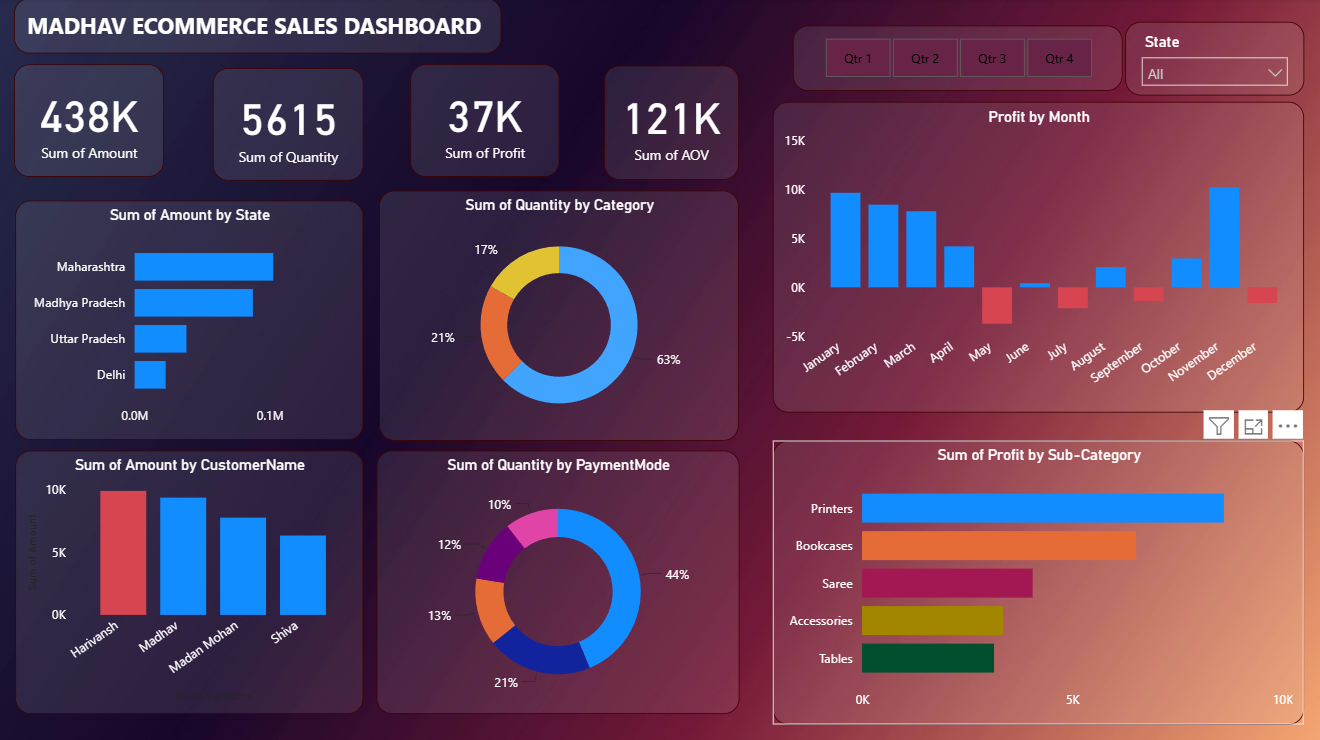

What the dashboard file says about the page in this screenshot:
{"tool":"powerbi","page":{"name":"Page 1","canvas":[1280,720],"ordinal":0},"visuals":[{"type":"textbox","box":[15,0,470,53.8],"z":0},{"type":"columnChart","title":"Profit by Month","fields":{"Category":["Orders.Order Date.Variation.Date Hierarchy.Month"],"Y":["Sum(Details.Profit)"]},"box":[747.1,100,512.9,300],"z":1000},{"type":"barChart","fields":{"Category":["Details.Sub-Category"],"Y":["Sum(Details.Profit)"]},"box":[747.1,427.1,512.9,274.3],"z":2000},{"type":"donutChart","fields":{"Category":["Details.Category"],"Y":["Sum(Details.Quantity)"]},"box":[367.1,185.7,347.1,241.4],"z":3000},{"type":"donutChart","fields":{"Y":["Sum(Details.Quantity)"],"Category":["Details.PaymentMode"]},"box":[364.3,437.1,350,254.3],"z":4000},{"type":"card","fields":{"Values":["Sum(Details.Amount)"]},"box":[15,63.8,145,108.8],"z":5000},{"type":"card","fields":{"Values":["Sum(Details.Quantity)"]},"box":[205.7,67.1,145.7,108.6],"z":6000},{"type":"card","fields":{"Values":["Sum(Details.Profit)"]},"box":[397.1,64.3,144.3,108.6],"z":7000},{"type":"card","fields":{"Values":["Sum(Details.AOV)"]},"box":[584.3,65.7,130,110],"z":8000},{"type":"barChart","fields":{"Category":["Orders.State"],"Y":["Sum(Details.Amount)"]},"box":[15.7,195.7,335.7,231.4],"z":9000},{"type":"columnChart","fields":{"Category":["Orders.CustomerName"],"Y":["Sum(Details.Amount)"]},"box":[15.7,437.1,335.7,254.3],"z":10000},{"type":"slicer","fields":{"Values":["Orders.Order Date.Variation.Date Hierarchy.Quarter"]},"box":[765.7,27.1,318.6,62.9],"z":11000},{"type":"slicer","fields":{"Values":["Orders.State"]},"box":[1087.1,22.9,172.9,71.4],"z":12000}]}

Visuals, with their boxes in screenshot pixels (x1, y1, x2, y2), scaled from the page's 1280x720 canvas onto the 1320x740 screenshot:
textbox: {"left": 15, "top": 0, "right": 500, "bottom": 55}
"Profit by Month" columnChart: {"left": 770, "top": 103, "right": 1299, "bottom": 411}
barChart - Details.Sub-Category x Sum(Details.Profit): {"left": 770, "top": 439, "right": 1299, "bottom": 721}
donutChart - Details.Category x Sum(Details.Quantity): {"left": 379, "top": 191, "right": 737, "bottom": 439}
donutChart - Sum(Details.Quantity) x Details.PaymentMode: {"left": 376, "top": 449, "right": 737, "bottom": 711}
card - Sum(Details.Amount): {"left": 15, "top": 66, "right": 165, "bottom": 177}
card - Sum(Details.Quantity): {"left": 212, "top": 69, "right": 362, "bottom": 181}
card - Sum(Details.Profit): {"left": 410, "top": 66, "right": 558, "bottom": 178}
card - Sum(Details.AOV): {"left": 603, "top": 68, "right": 737, "bottom": 181}
barChart - Orders.State x Sum(Details.Amount): {"left": 16, "top": 201, "right": 362, "bottom": 439}
columnChart - Orders.CustomerName x Sum(Details.Amount): {"left": 16, "top": 449, "right": 362, "bottom": 711}
slicer - Orders.Order Date.Variation.Date Hierarchy.Quarter: {"left": 790, "top": 28, "right": 1118, "bottom": 92}
slicer - Orders.State: {"left": 1121, "top": 24, "right": 1299, "bottom": 97}
